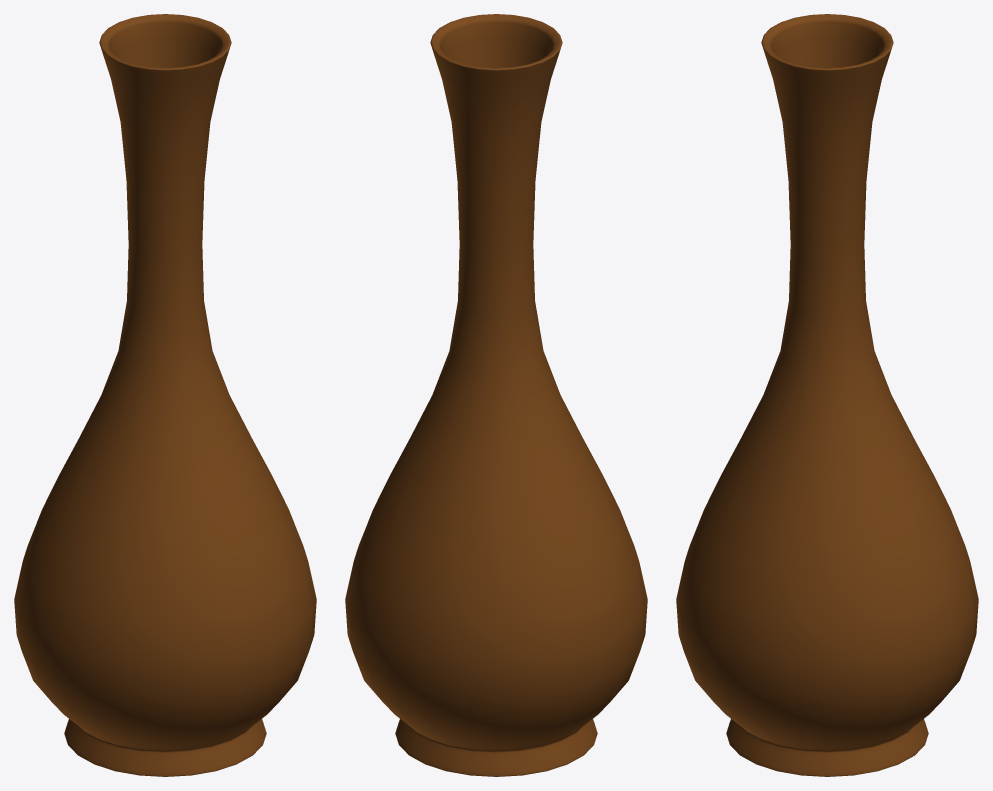
The model's file is vase_c5b9bc57.glb.
The picture shows the model from 3 angles, left to right: view 1: azimuth 30°, elevation 25°; view 2: azimuth 150°, elevation 25°; view 3: azimuth 270°, elevation 25°; orthographic projection.
Visible parts, largest first — view 1: Object_2; view 2: Object_2; view 3: Object_2.
Boxes of the visible parts, left/top/right/bottom form: Object_2: left=14, top=14, right=316, bottom=776; Object_2: left=345, top=14, right=647, bottom=776; Object_2: left=676, top=14, right=978, bottom=776.
Size of the model in its own units: 2.86 by 7.22 by 2.86.
